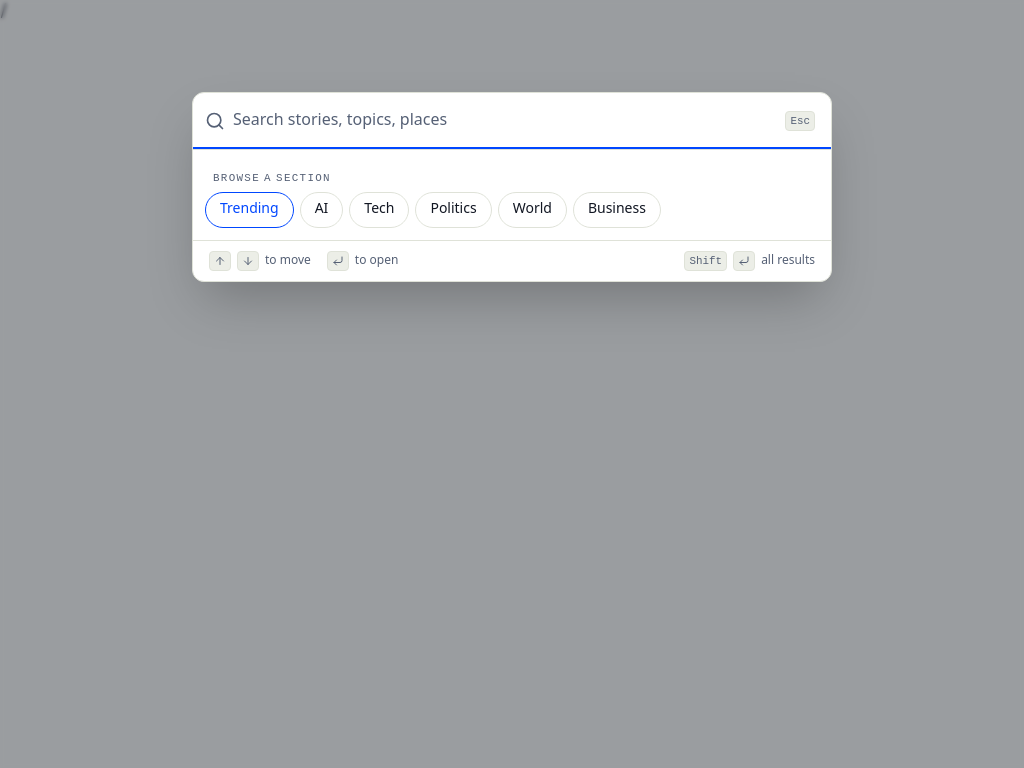
search palette › "see all" goes to the search page with the query in the URL
Type "climate" into the dropdown labelled "Search stories" at {"x": 503, "y": 121}, box x1=233 y1=93 x2=773 y2=149
Wait 250 ms
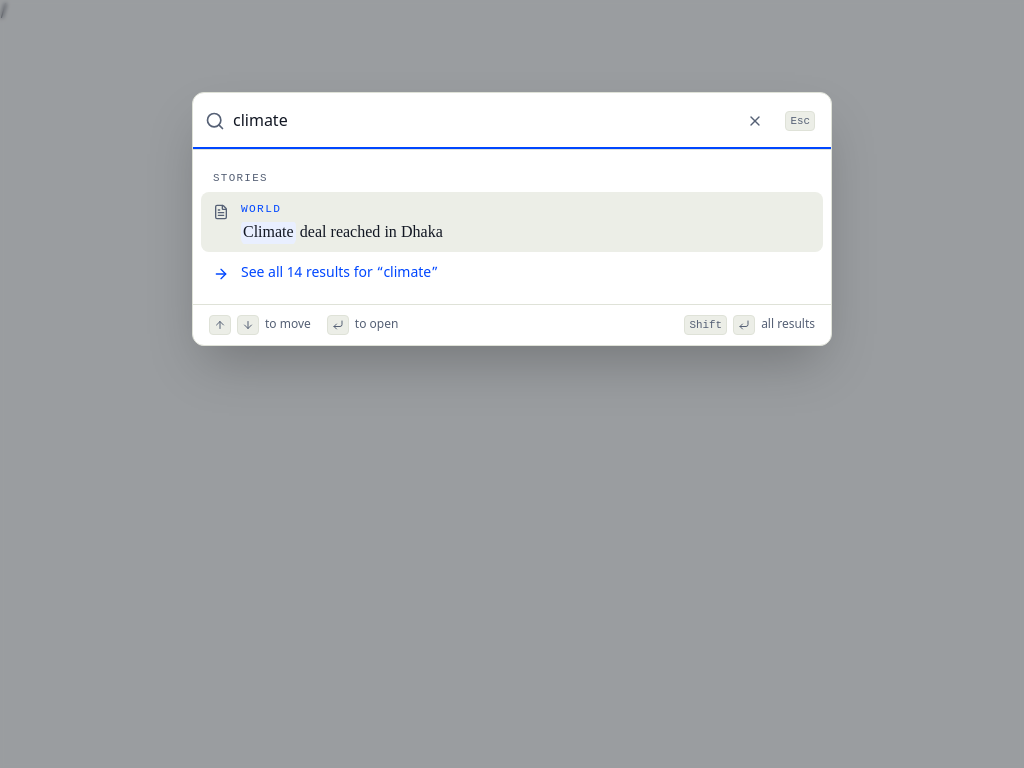
Click the option "See all 14 results for “climate”" at {"x": 326, "y": 274}, box x1=213 y1=264 x2=438 y2=284
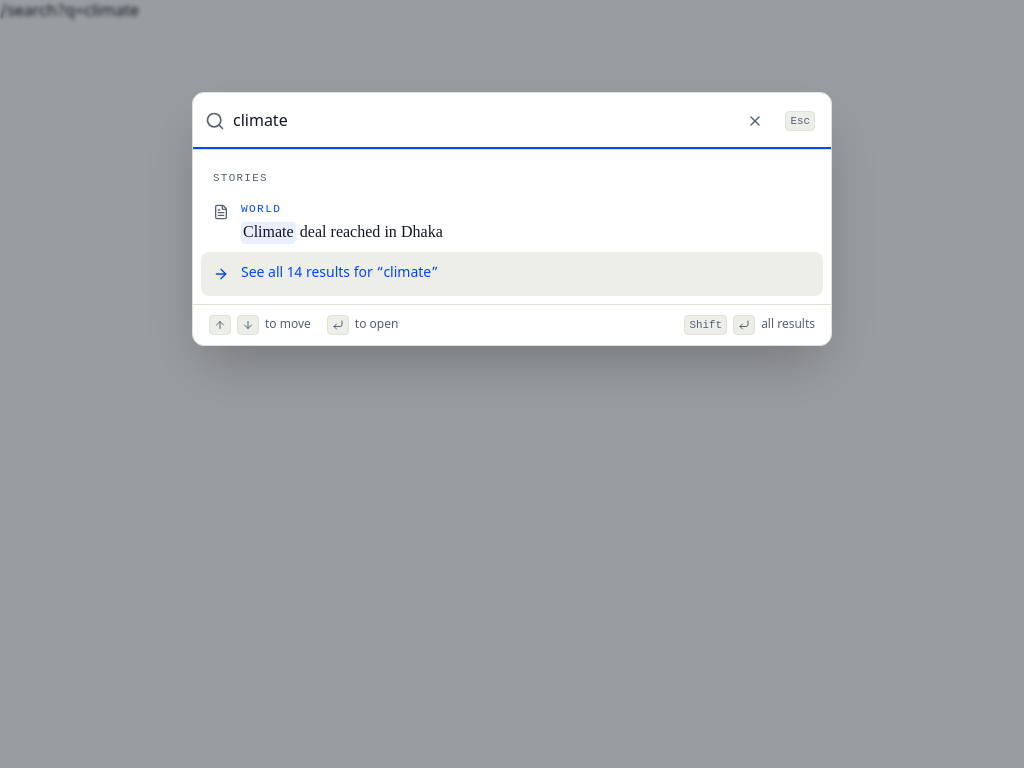
Result: the text with test id "where" reads "/search?q=climate" at x1=0 y1=1 x2=139 y2=23
